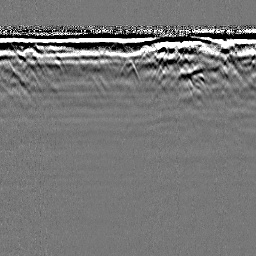cavity: (118, 57, 140, 80)
